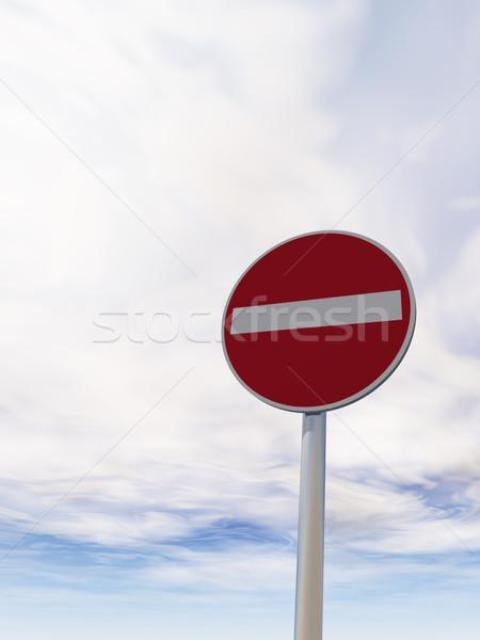B2: (219, 228, 417, 414)
